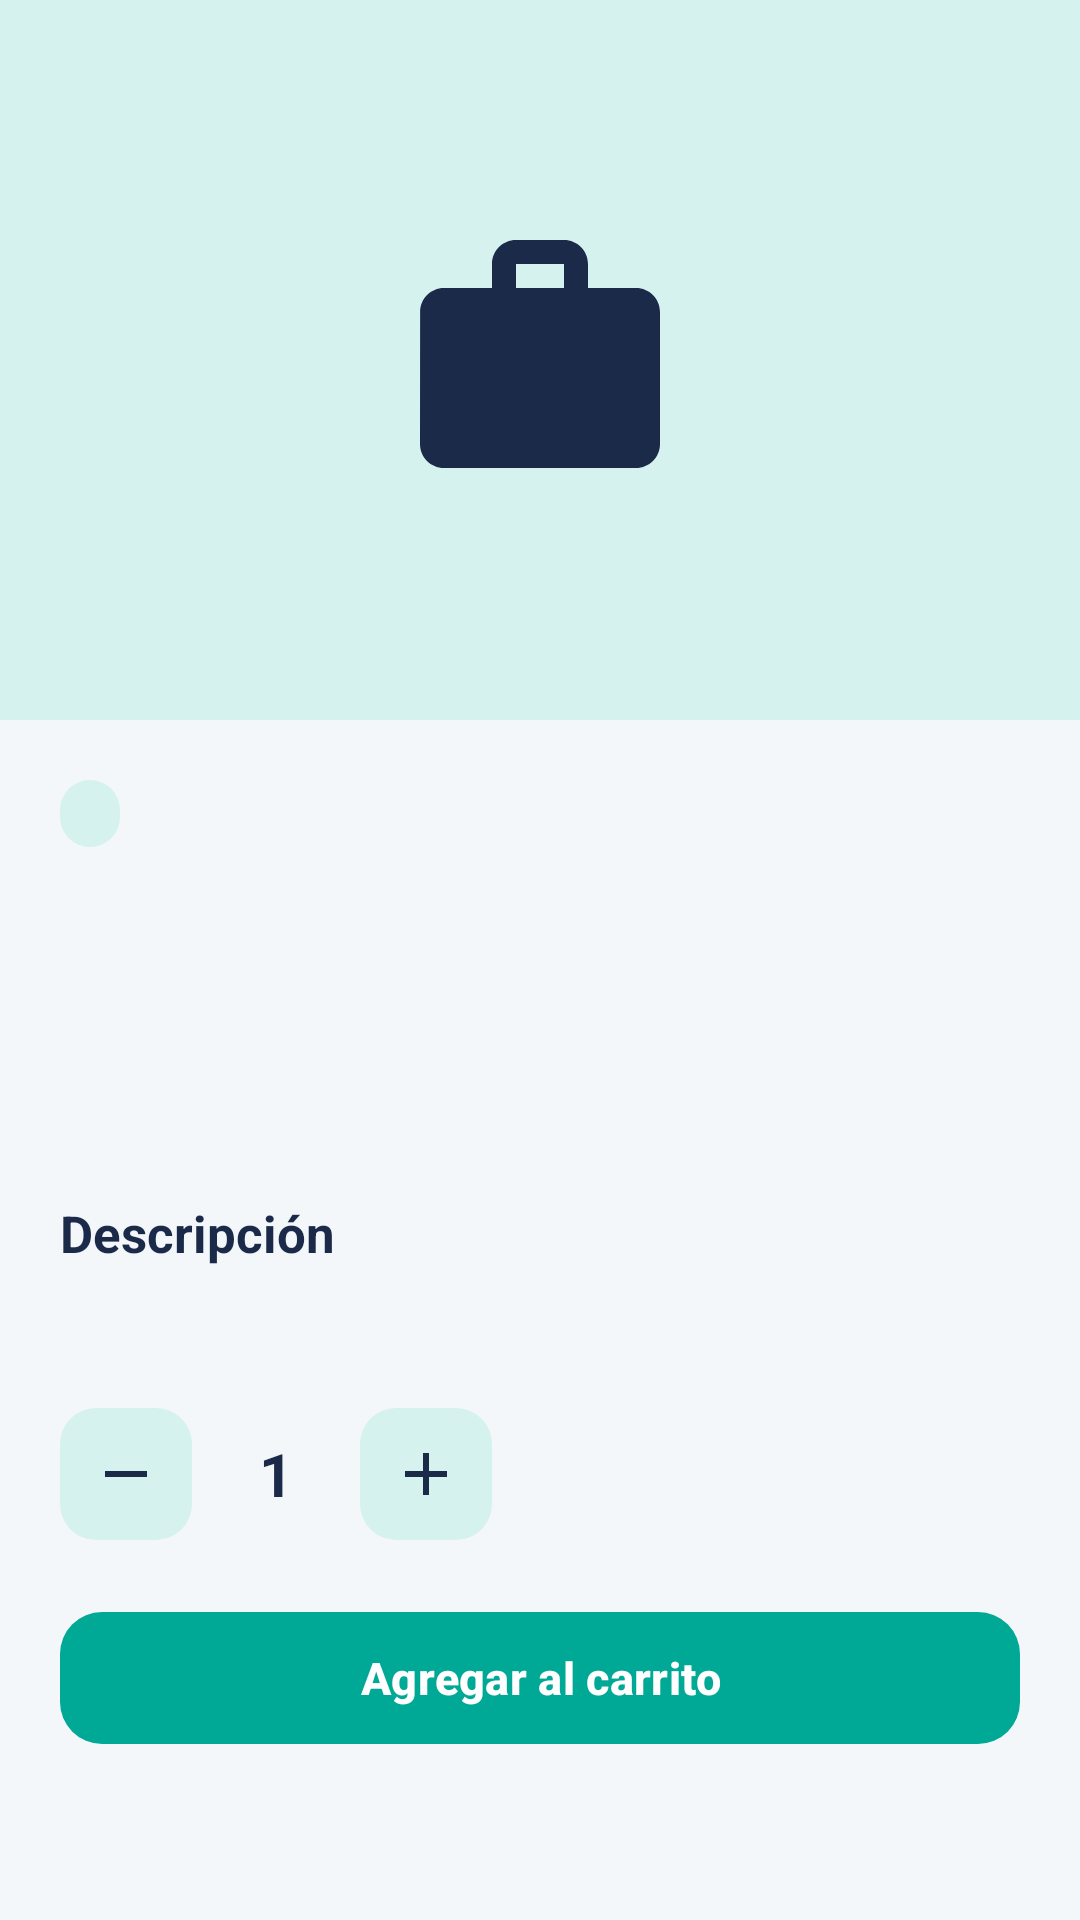

Screen size 1080px×1920px. Icon name, then its center in pixels as (x=x, y=y):
Menos: (x=126, y=1474)
Más: (x=426, y=1474)
